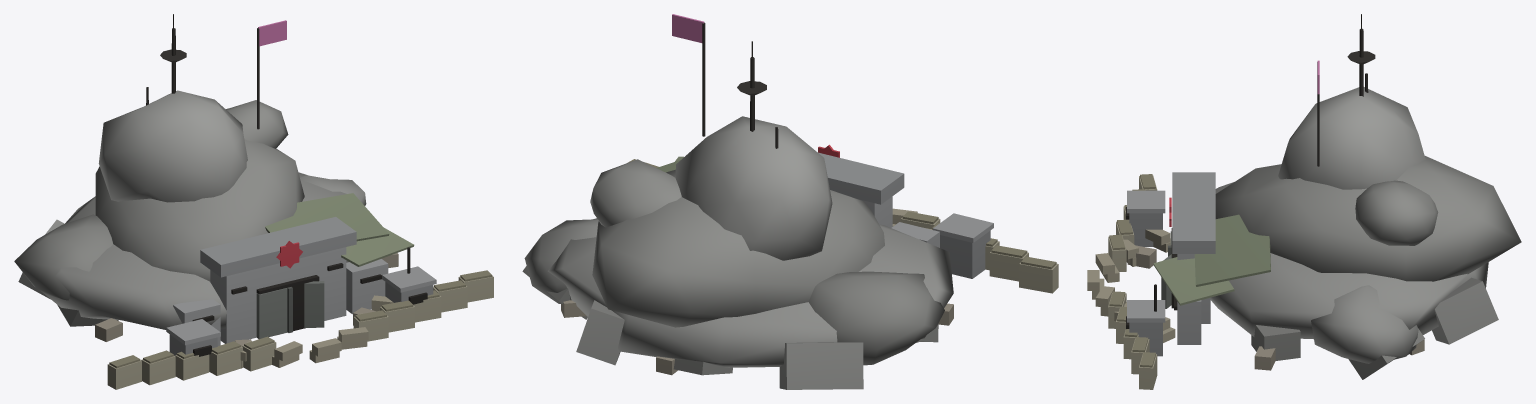
File: m_fort_0a53dd09.glb
The picture shows the model from 3 angles, left to right: view 1: azimuth 30°, elevation 25°; view 2: azimuth 150°, elevation 25°; view 3: azimuth 270°, elevation 25°; orthographic projection. The views are drawn at different scales.
Visible parts, largest first — view 1: mesh; view 2: mesh; view 3: mesh.
Part boxes in pixels (<box>): mesh: <box>14,14,493,389</box>; mesh: <box>522,14,1058,389</box>; mesh: <box>1087,14,1521,389</box>.
Size of the model in its own units: 95.31 by 65.45 by 90.7.
